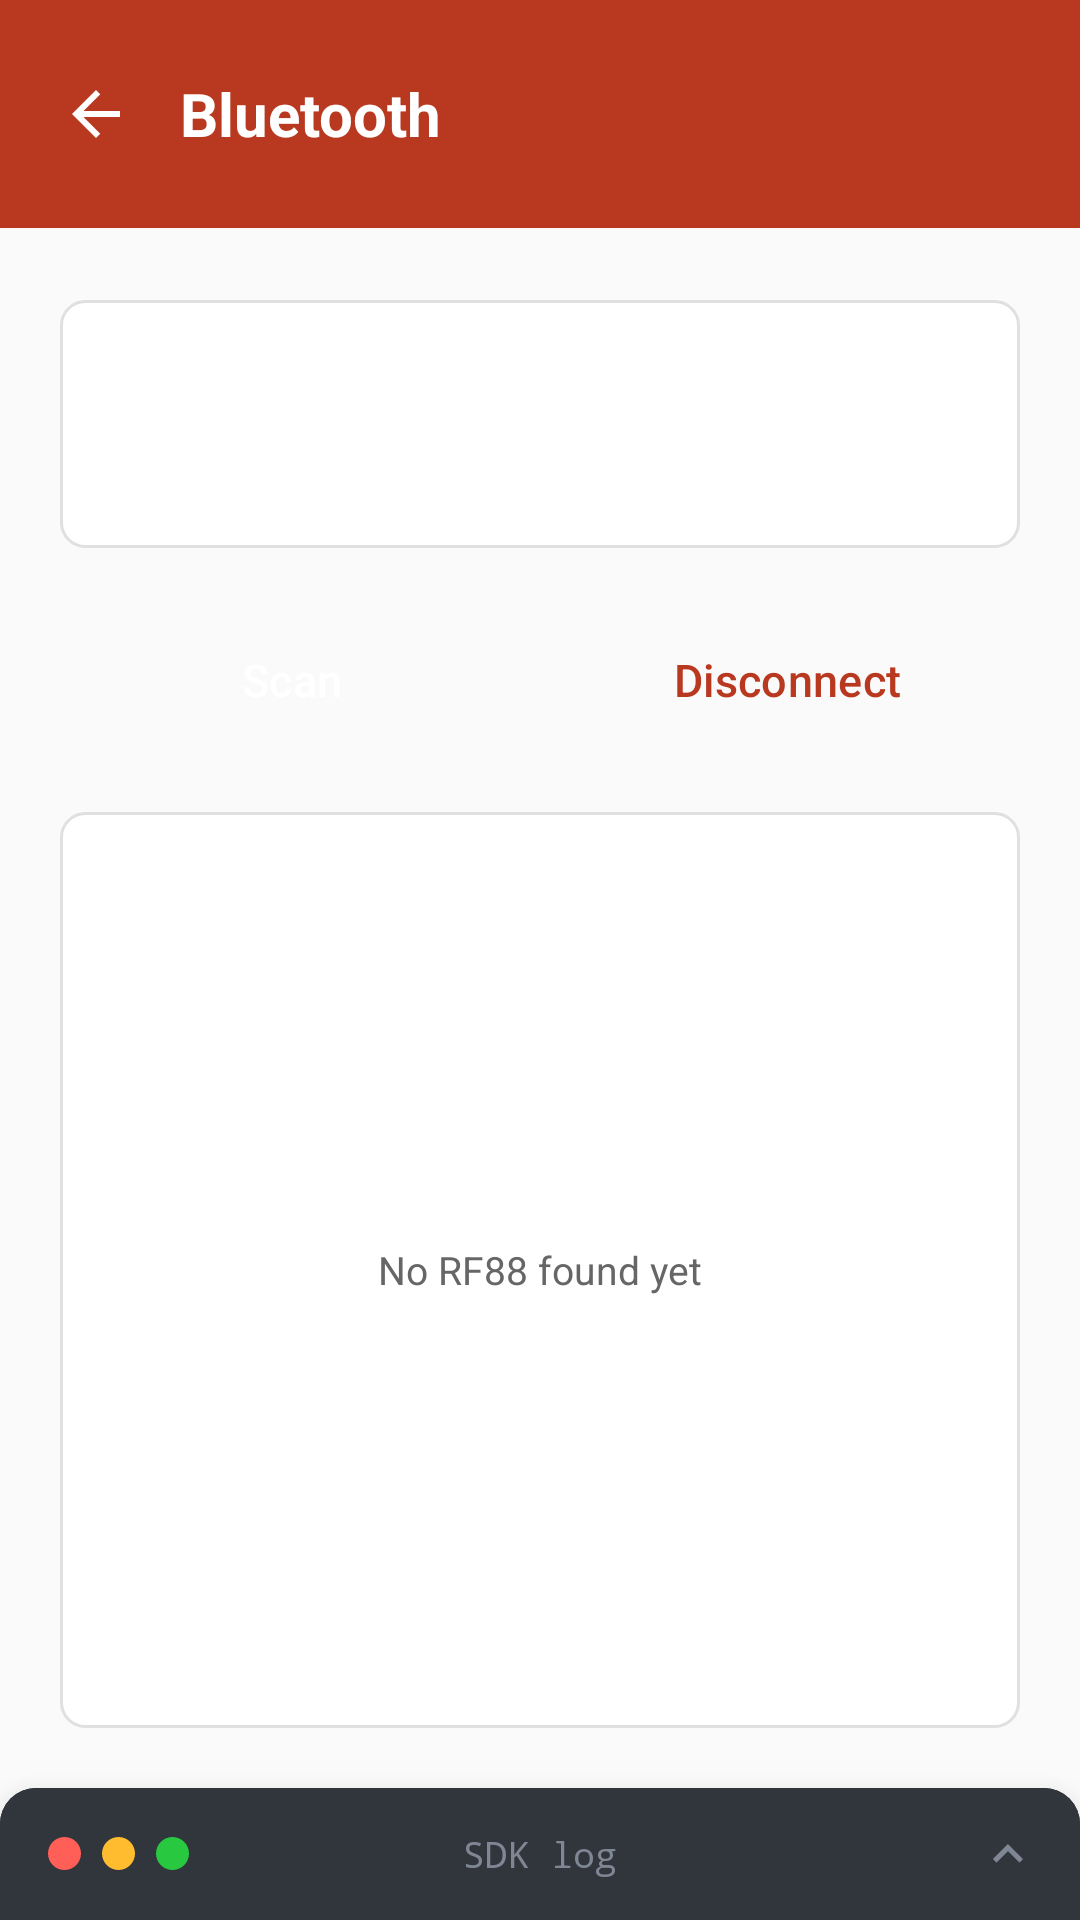

Icons on this 1080px x 1920px Android screen, each with its box as (x1, y1, x2, y2):
Back: (72, 90, 120, 138)
